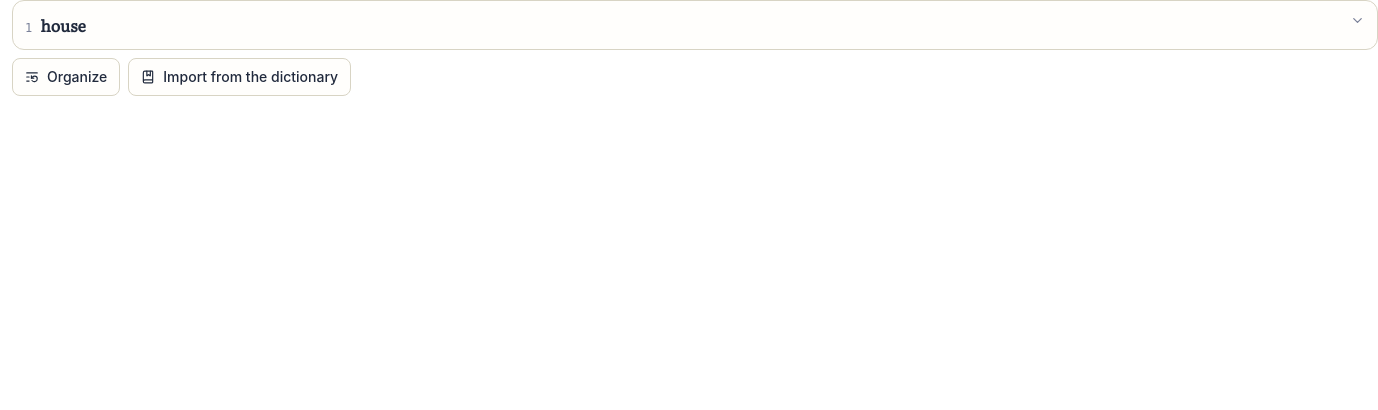
importing meanings from the attached dictionary entry › saves nothing when the sheet is cancelled
Click the button "Import from the dictionary": (240, 77) x1=128 y1=58 x2=351 y2=96
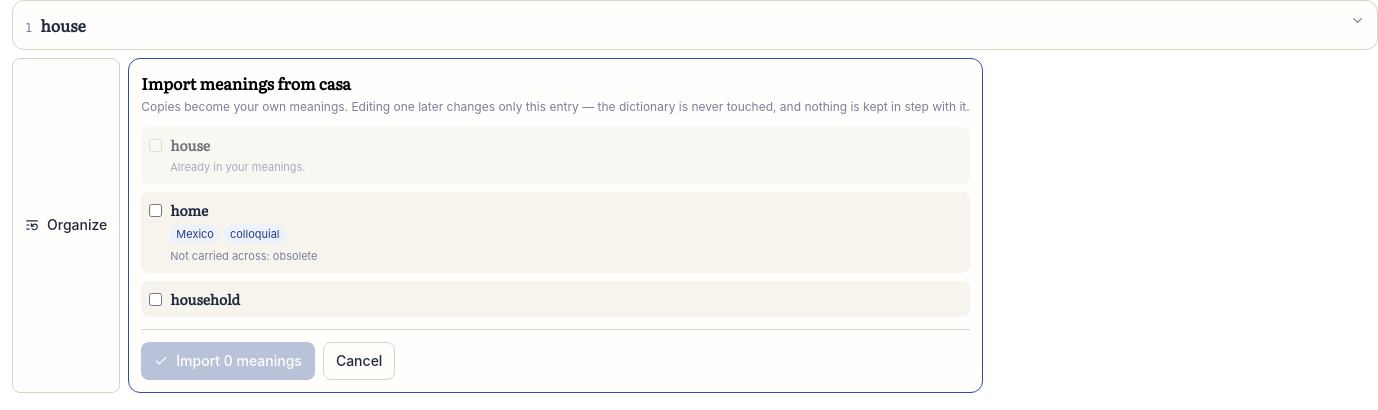
Click the checkbox named "Import home": (156, 210) x1=149 y1=204 x2=162 y2=216
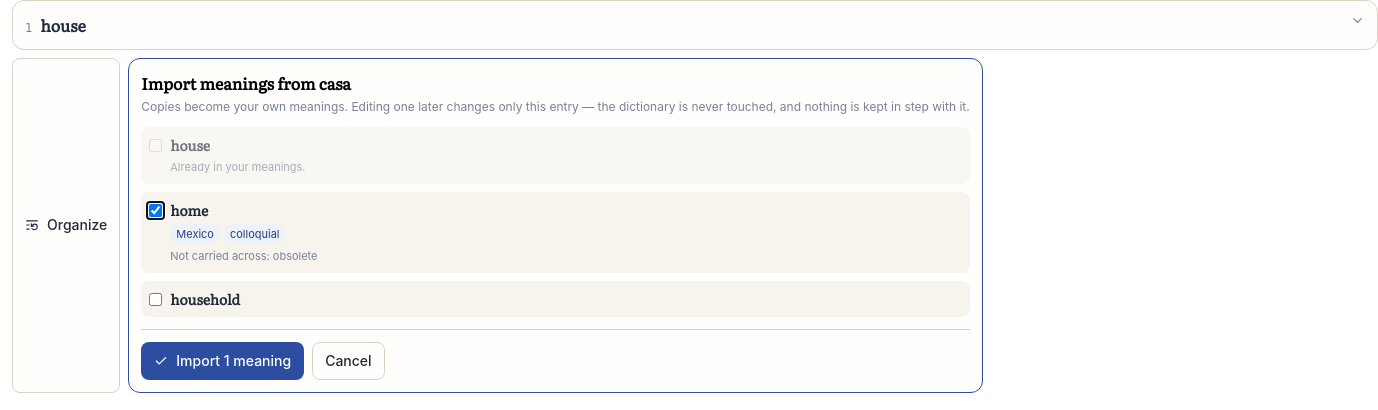
Click the button "Cancel": (348, 360) x1=312 y1=342 x2=385 y2=380
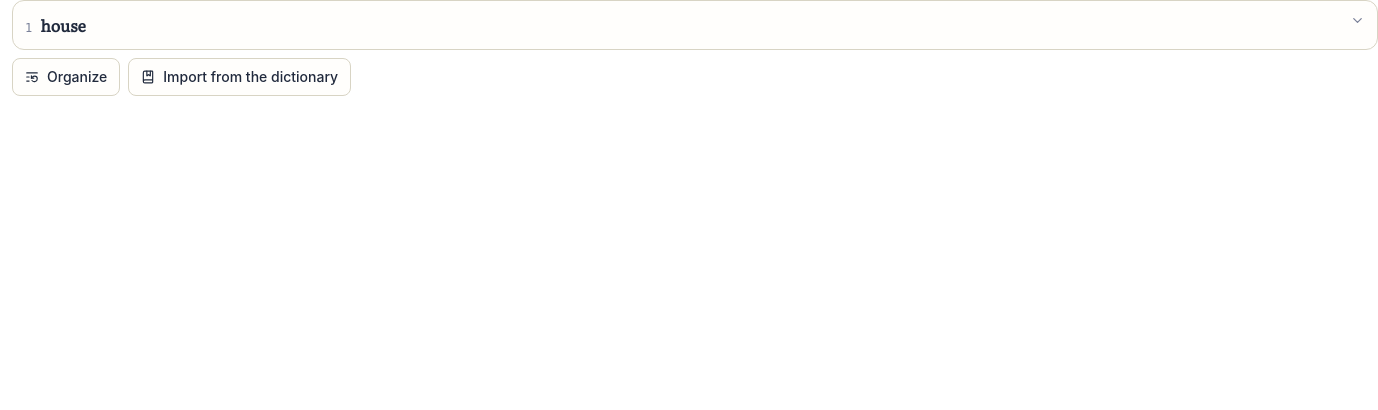
Result: the button "Import from the dictionary" is shown at x1=128 y1=58 x2=351 y2=96
